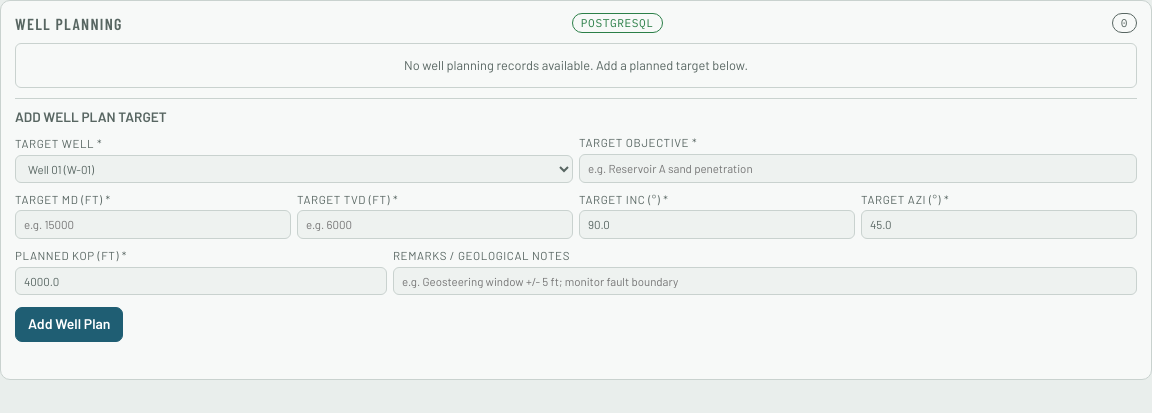
<WellPlanningEditor> › adds a valid well plan via the form
Step 1. Type "Sandstone B payzone" into the field labelled "Target Objective *" → (858, 168), box [579,154,1137,183]
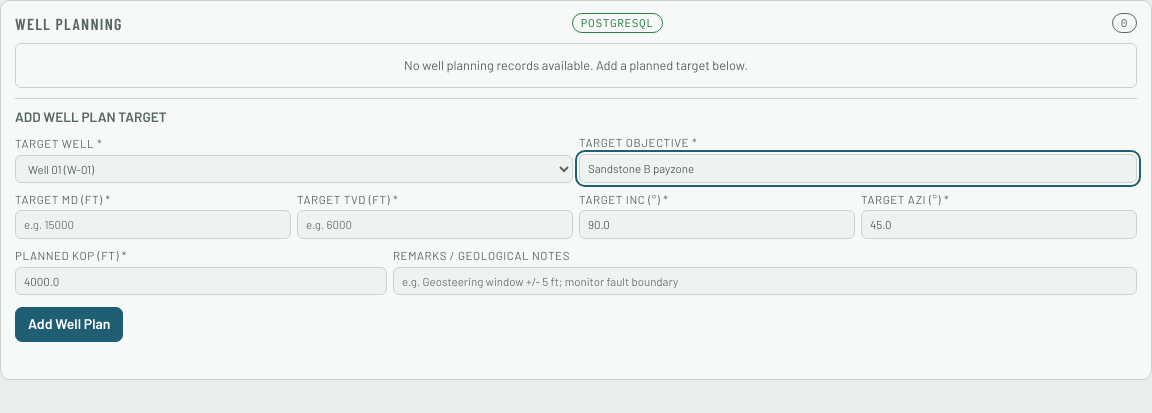
Step 2. Type "14000" into the number field named "target depth md" → (153, 225), box [15,210,291,239]
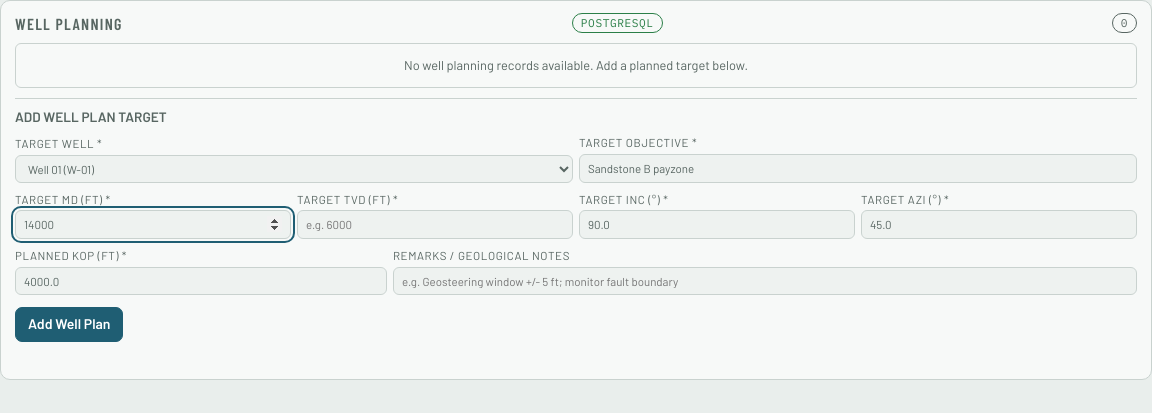
Step 3. Type "7500" into the number field named "target depth tvd" → (435, 225), box [297,210,573,239]
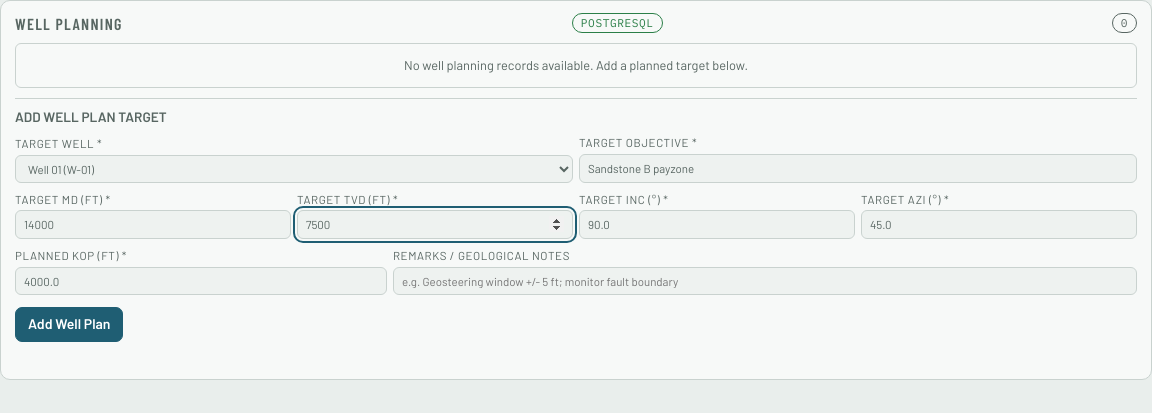
Step 4. Click the button "Add Well Plan" → (69, 325), box [15,307,124,342]
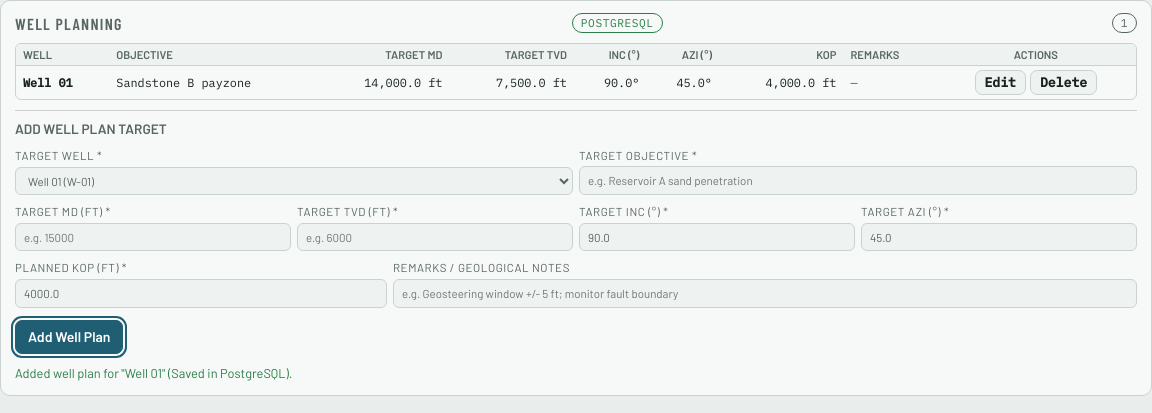
Expected: the text "Added well plan for \"Well 01\" (Saved in PostgreSQL)." is shown, [15,365,292,381]
Expected: the text "Sandstone B payzone" is shown, [109,66,314,99]
